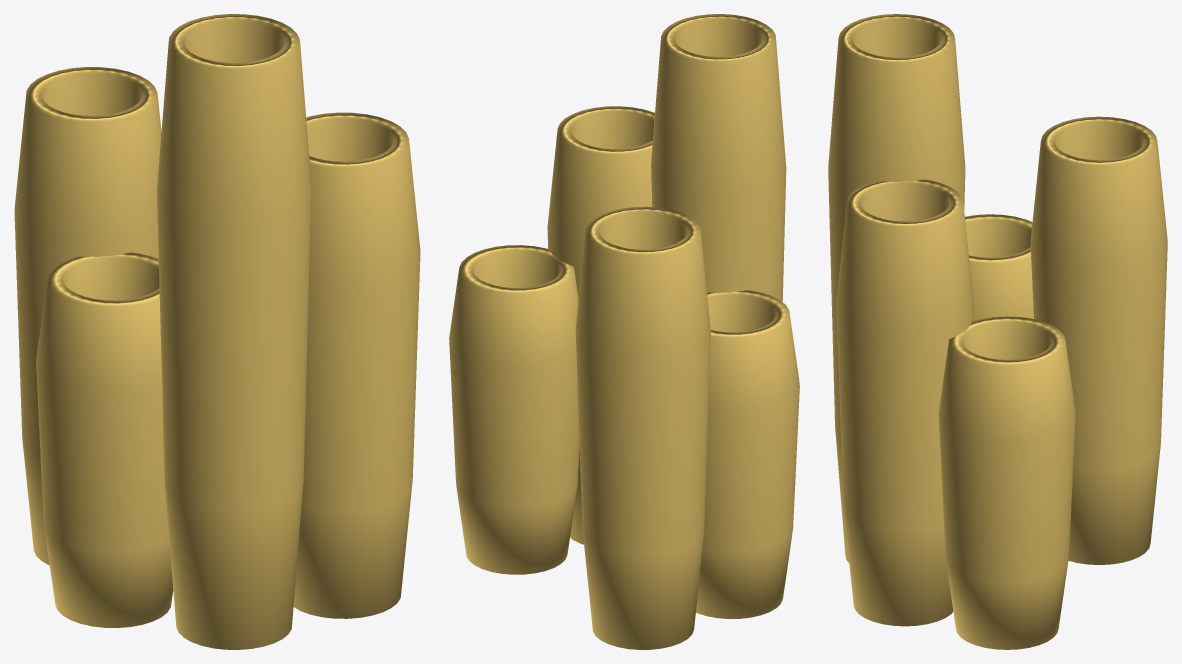
File: ob_sponge.glb
The picture shows the model from 3 angles, left to right: view 1: azimuth 30°, elevation 25°; view 2: azimuth 150°, elevation 25°; view 3: azimuth 270°, elevation 25°; orthographic projection. The views are drawn at different scales.
Parts seen in each view (by area): view 1: tube-sponges_0; view 2: tube-sponges_0; view 3: tube-sponges_0.
Part boxes in pixels (x1=…): tube-sponges_0: x1=14, y1=14, x2=420, y2=649; tube-sponges_0: x1=449, y1=14, x2=799, y2=649; tube-sponges_0: x1=828, y1=14, x2=1167, y2=649.
Size of the model in its own units: 0.7177 by 1.08 by 0.6432.
